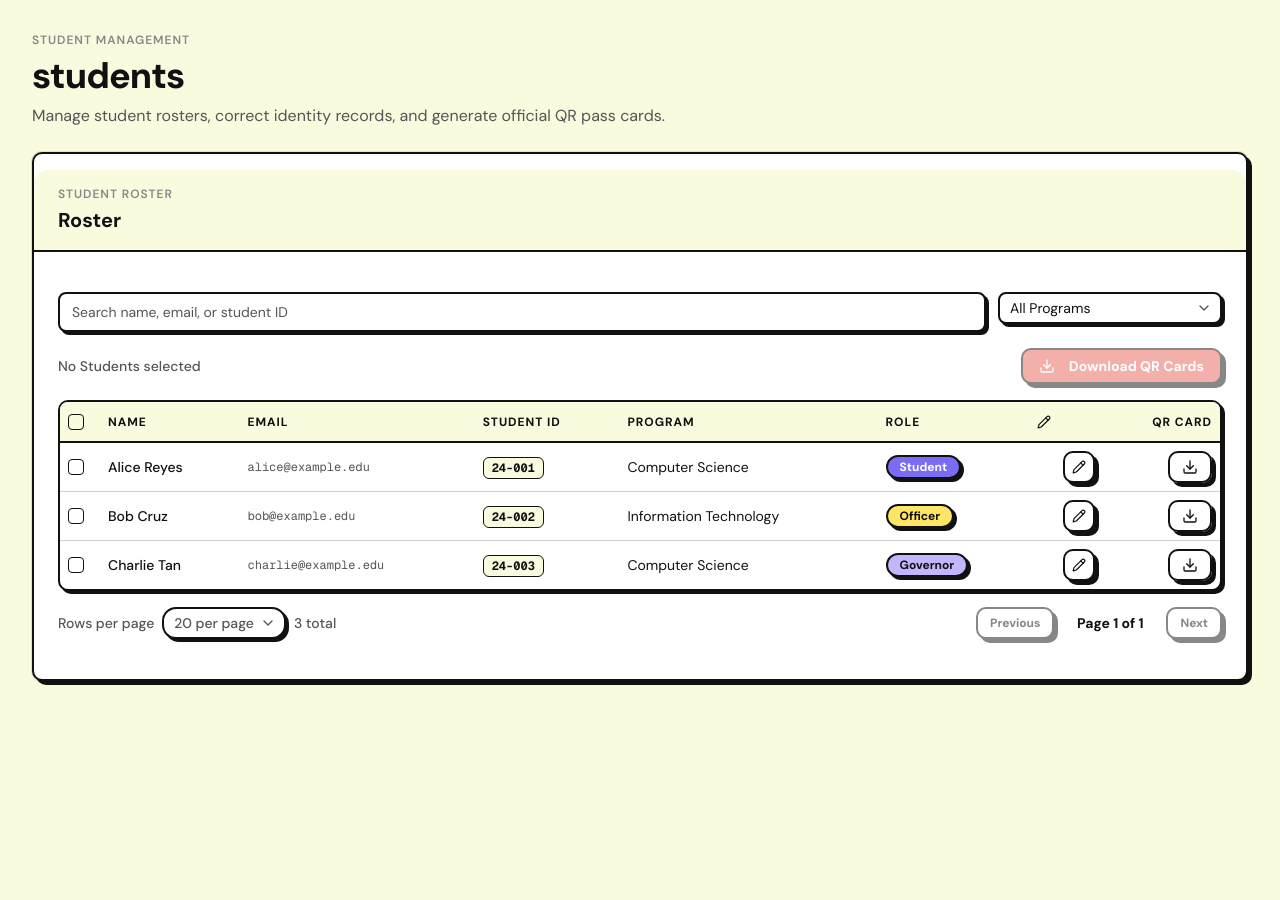
Scenario: Neobrutalist table styling and search filtering (Issue #206) › filters student rows correctly by name, email, and student ID
This screenshot has width=1280, height=900.
Expected: the text "Alice Reyes" is shown, [100,442,240,492]
Expected: the text "Bob Cruz" is shown, [100,492,240,540]
// Search by name
In the field labelled "Search name, email, or student ID": (522, 312) [58,292,986,332], type "Bob"
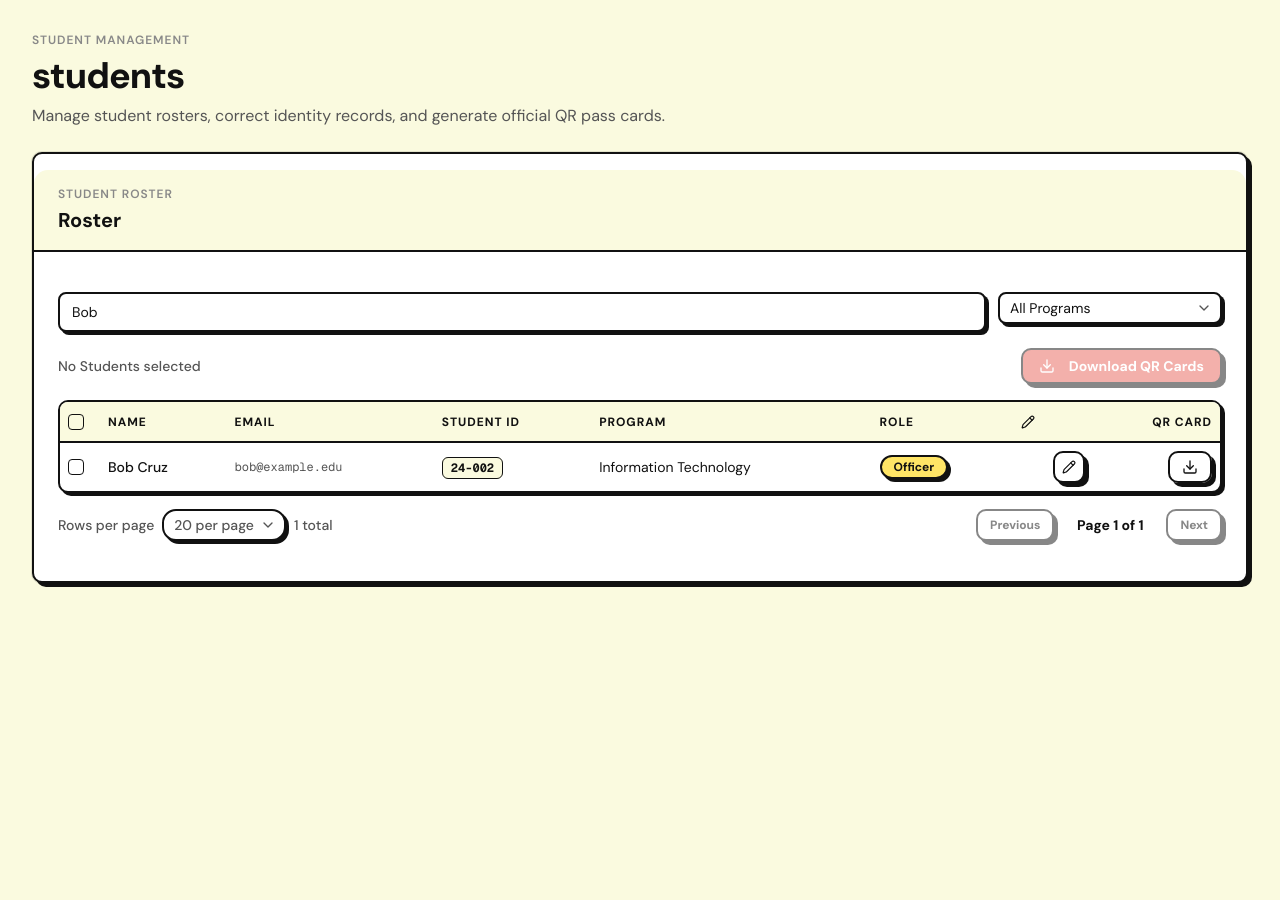
Expected: the text "Bob Cruz" is shown, [100,442,227,491]
Result: the text "Alice Reyes" is gone
Result: the text "Charlie Tan" is gone
// Search by student ID
Replace the text in the field named "Search name, email, or student ID" with "24-003": (522, 312) [58,292,986,332]
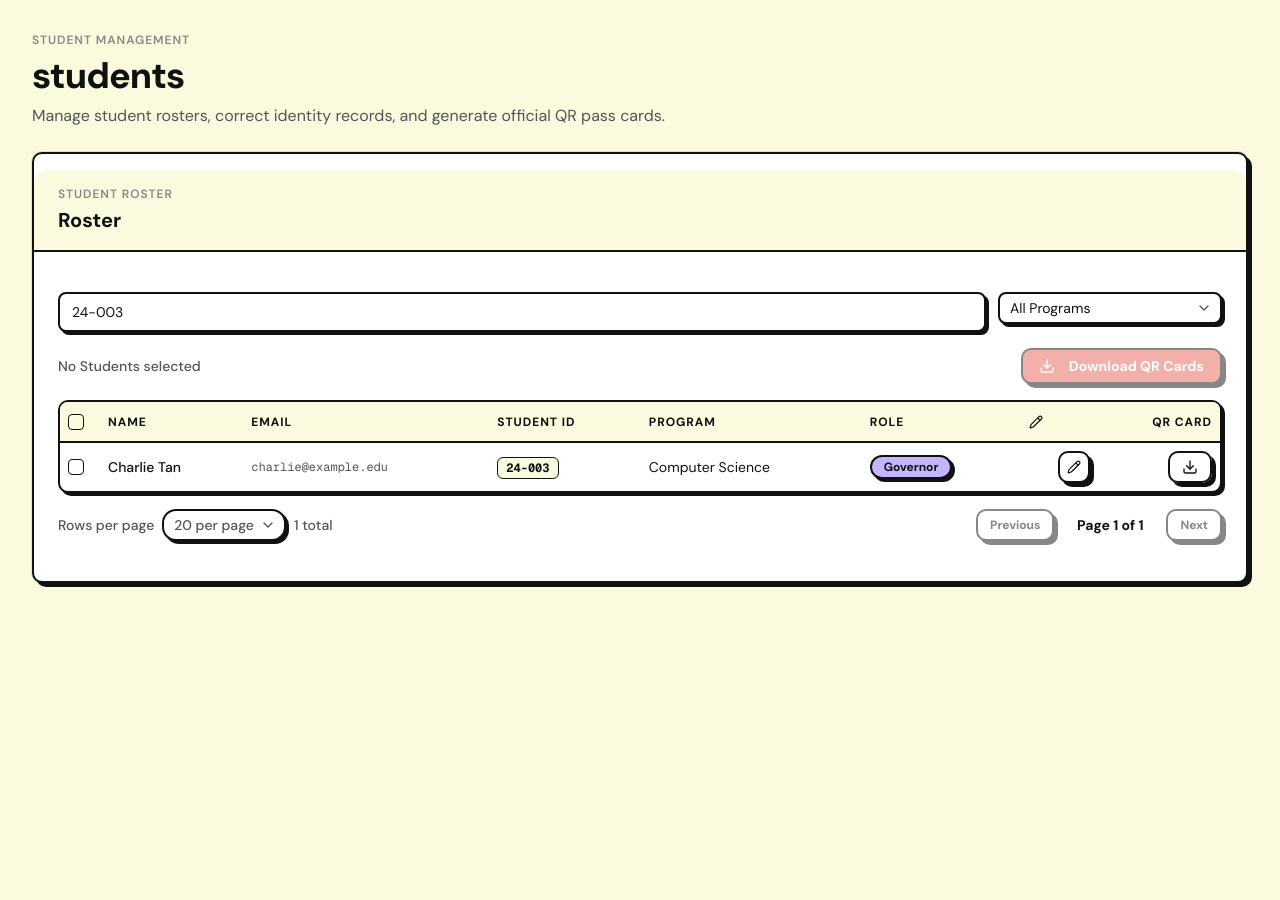
Expected: the text "Alice Reyes" is not shown
Result: the text "Bob Cruz" is gone
Result: the text "Charlie Tan" is shown at [100,442,243,491]
// No matches
Replace the text in the field named "Search name, email, or student ID" with "nomatch": (522, 312) [58,292,986,332]
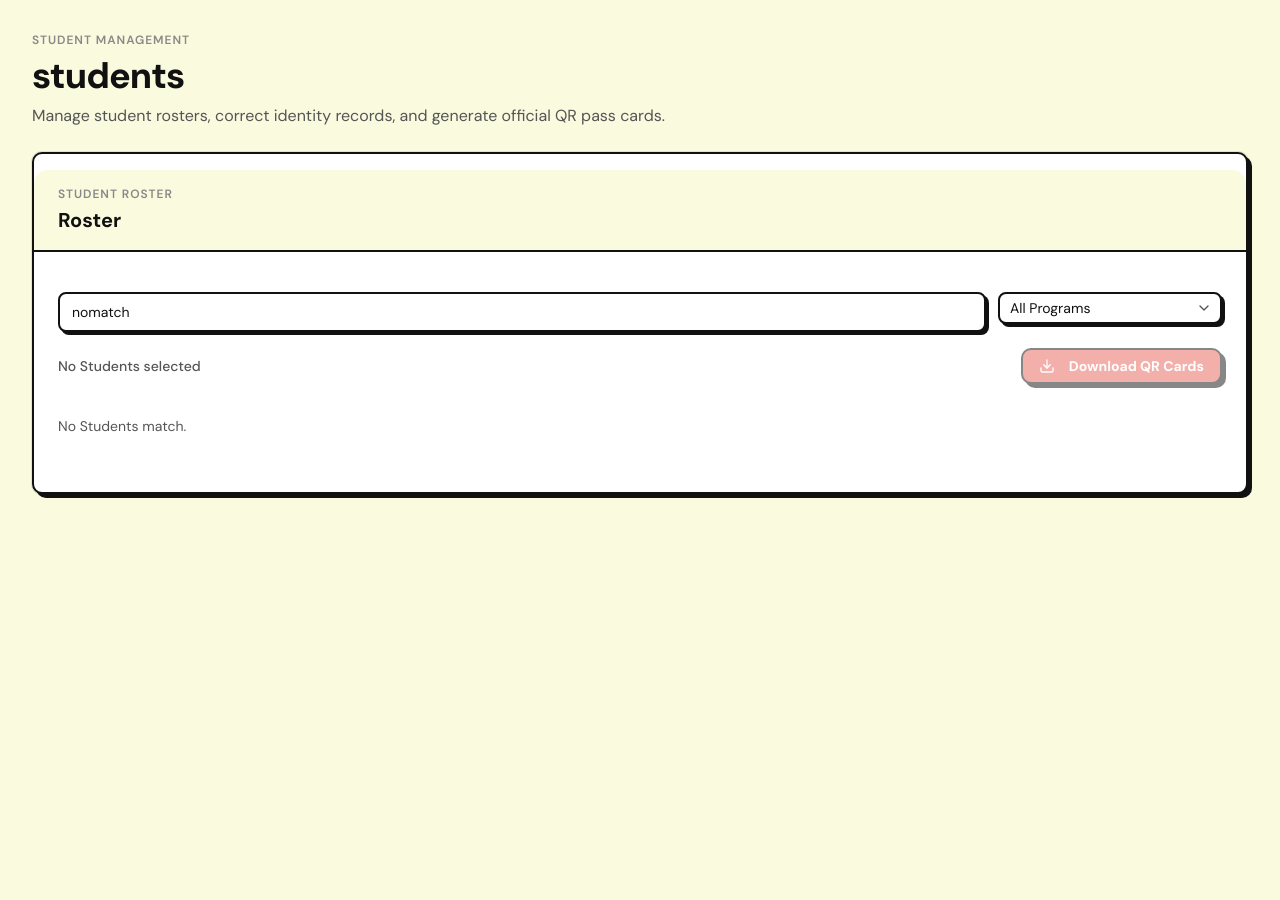
Result: the text "No Students match." is shown at [58,417,186,435]
